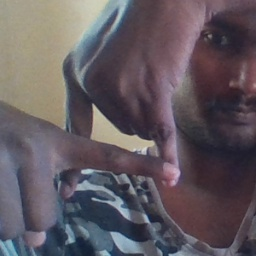H: (49, 57, 192, 203)
